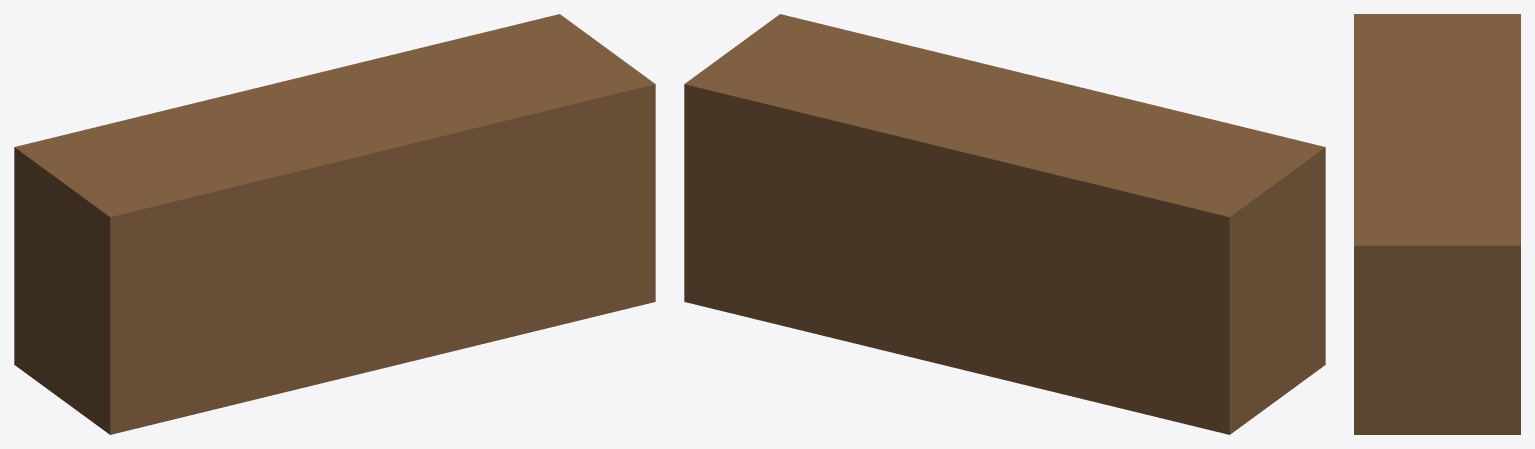
File: bench.glb
The picture shows the model from 3 angles, left to right: view 1: azimuth 30°, elevation 25°; view 2: azimuth 150°, elevation 25°; view 3: azimuth 270°, elevation 25°; orthographic projection. The views are drawn at different scales.
Parts seen in each view (by area): view 1: bench; view 2: bench; view 3: bench.
Boxes of the visible parts, left/top/right/bottom form: bench: left=14, top=14, right=655, bottom=434; bench: left=684, top=14, right=1325, bottom=434; bench: left=1354, top=14, right=1520, bottom=434.
Bounding box in the file's own units: 4.19 × 1.6 × 1.28.
